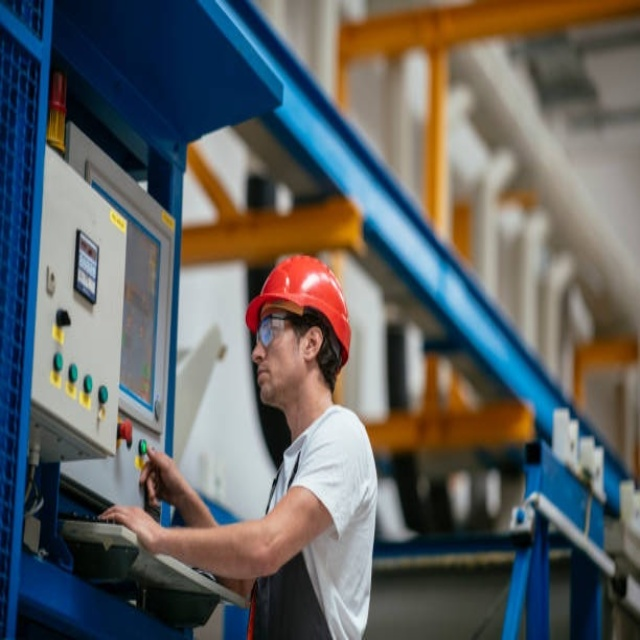Gafas: (256, 312, 307, 348)
Sin_guantes: (96, 494, 162, 558), (138, 439, 186, 515)
Sin_mascara: (252, 356, 273, 395)
